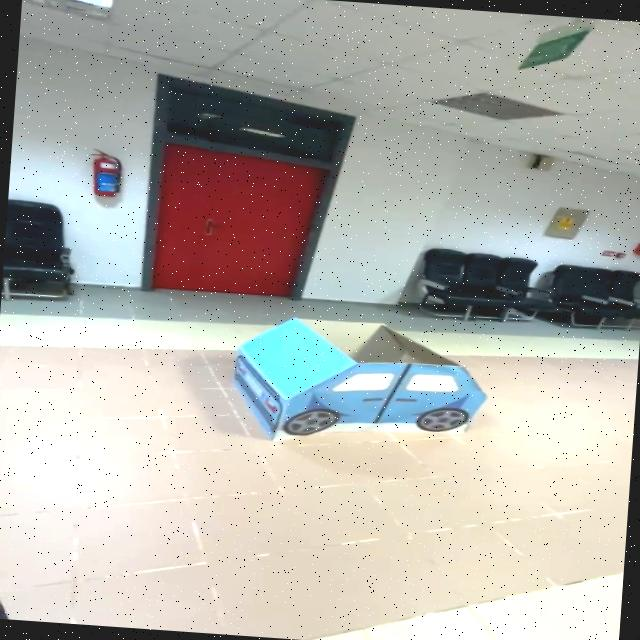blue_car: (197, 303, 505, 472)
